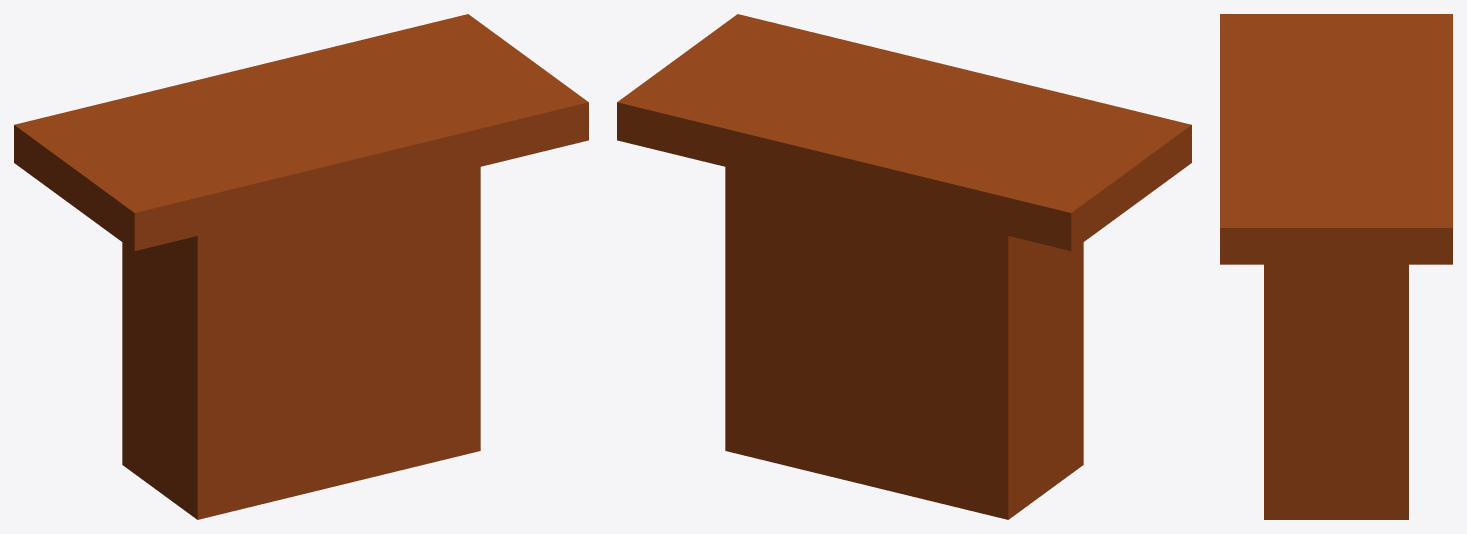
The model's file is platform_brown.fbx.
3 renders of one model, left to right at view 1: azimuth 30°, elevation 25°; view 2: azimuth 150°, elevation 25°; view 3: azimuth 270°, elevation 25°, orthographic. The views are drawn at different scales.
Parts seen in each view (by area): view 1: Cube.025; view 2: Cube.025; view 3: Cube.025.
Boxes of the visible parts, x1,y1,x2,y2 form: Cube.025: (14,14,588,519); Cube.025: (617,14,1191,519); Cube.025: (1220,14,1452,519).
Size of the model in its own units: 93.1 by 67.47 by 42.82.
